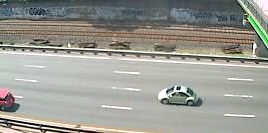car: (157, 84, 201, 109)
